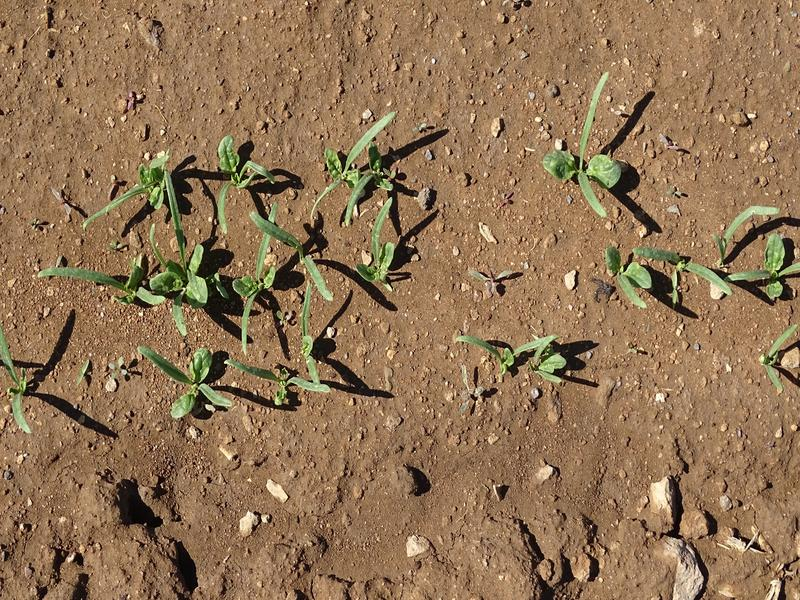Espinaca: (121, 114, 420, 413), (559, 92, 790, 299), (465, 330, 576, 378), (1, 332, 46, 435), (755, 325, 797, 390)
